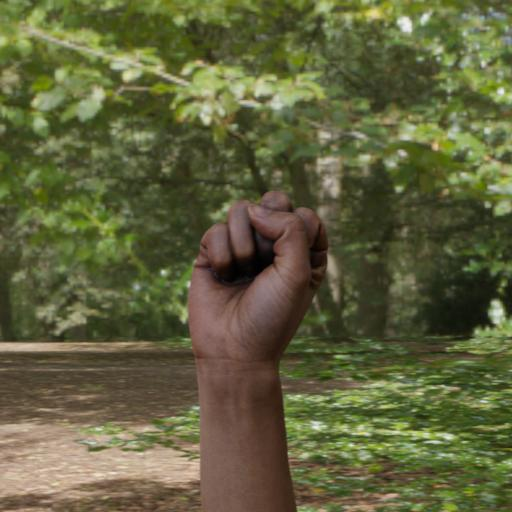S: (178, 188, 335, 386)
